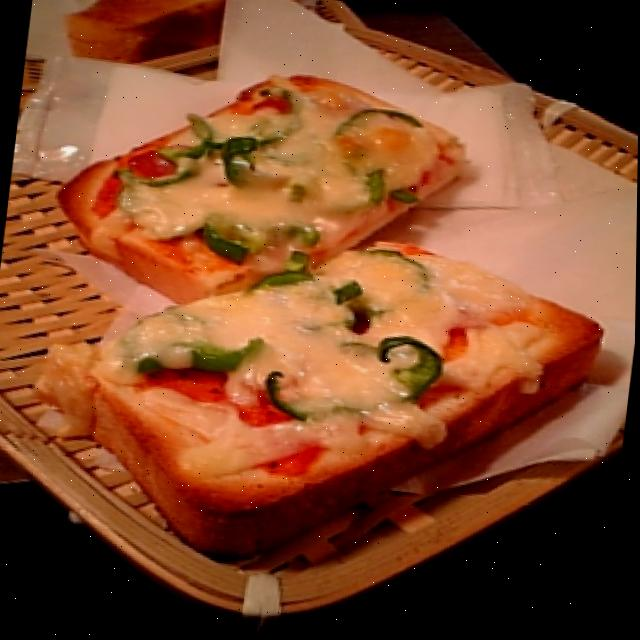面包点心: (0, 42, 637, 622)
